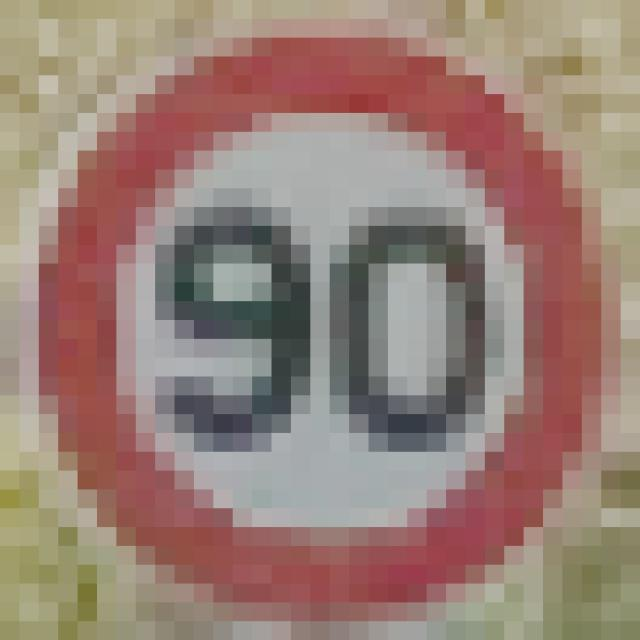speed_90: (0, 0, 621, 621)
